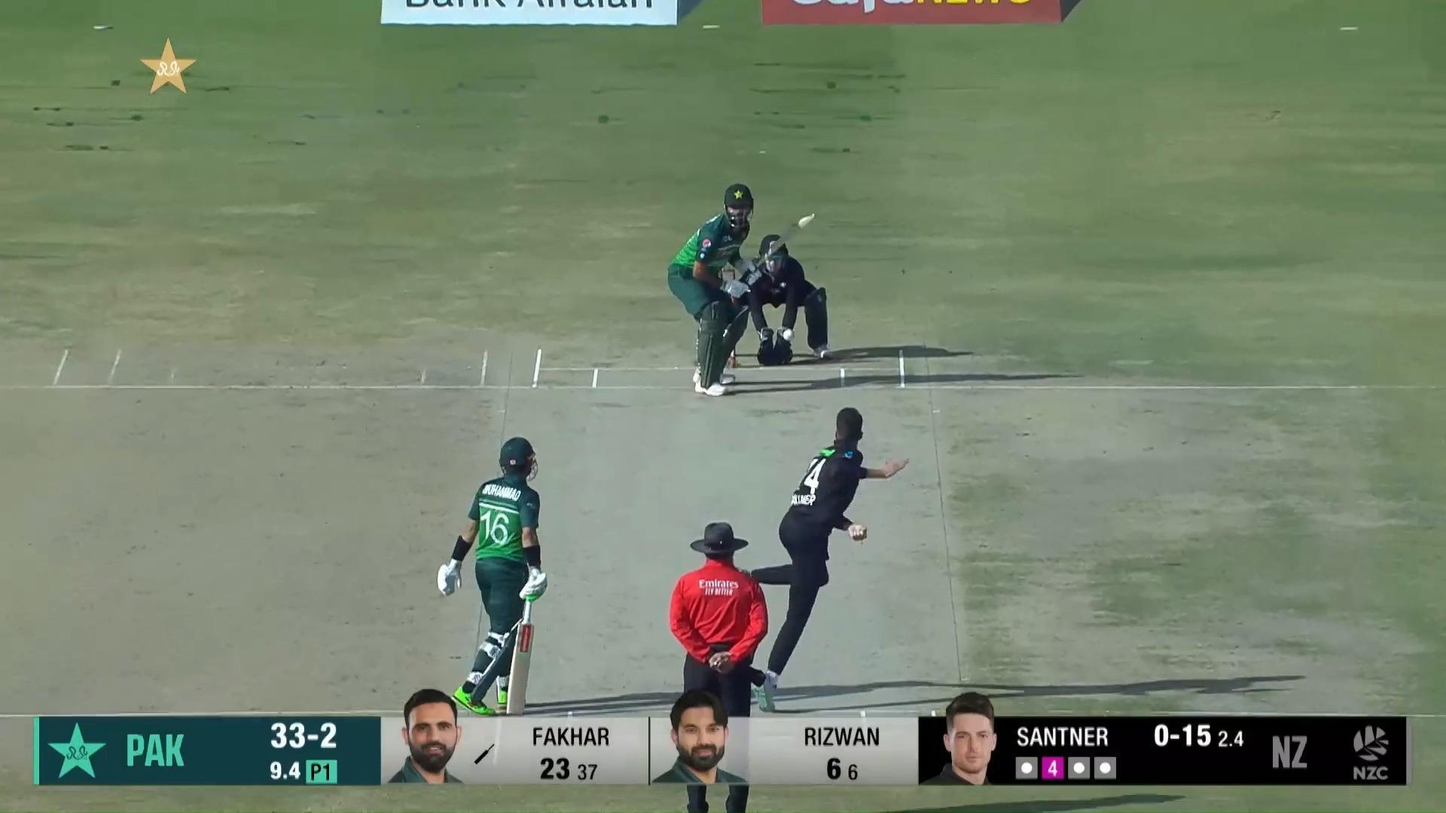BM 1: (667, 183, 816, 397)
BO: (732, 404, 913, 713)
